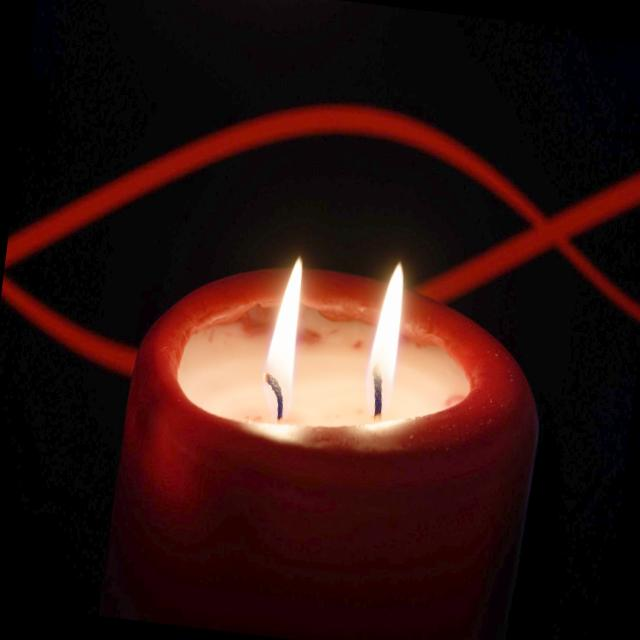Fire_Save: (100, 229, 557, 640)
